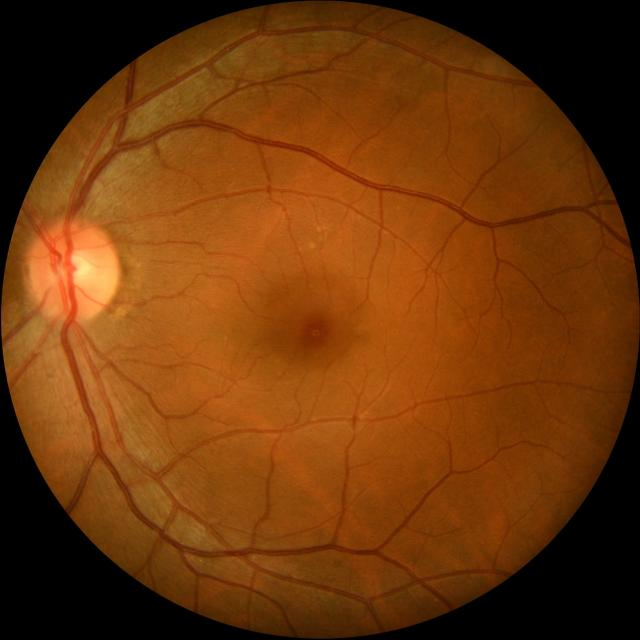OC: (56, 252, 91, 284)
OD: (28, 221, 118, 321)
